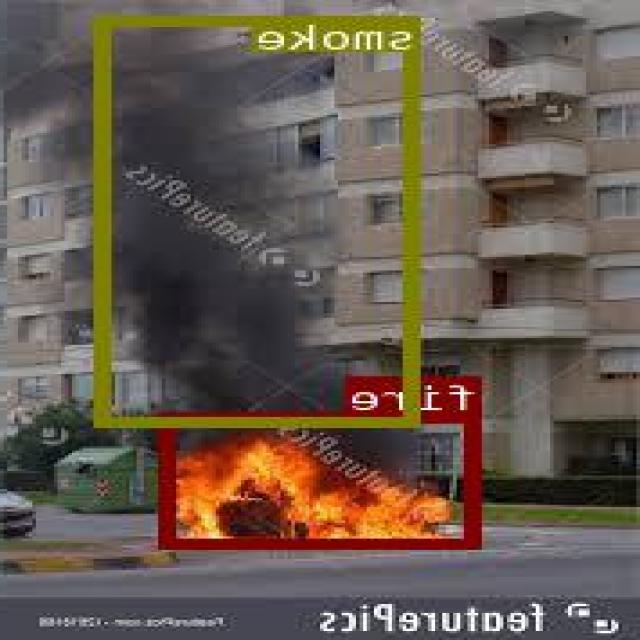fire: (165, 411, 483, 546)
smoke: (100, 15, 422, 424)
